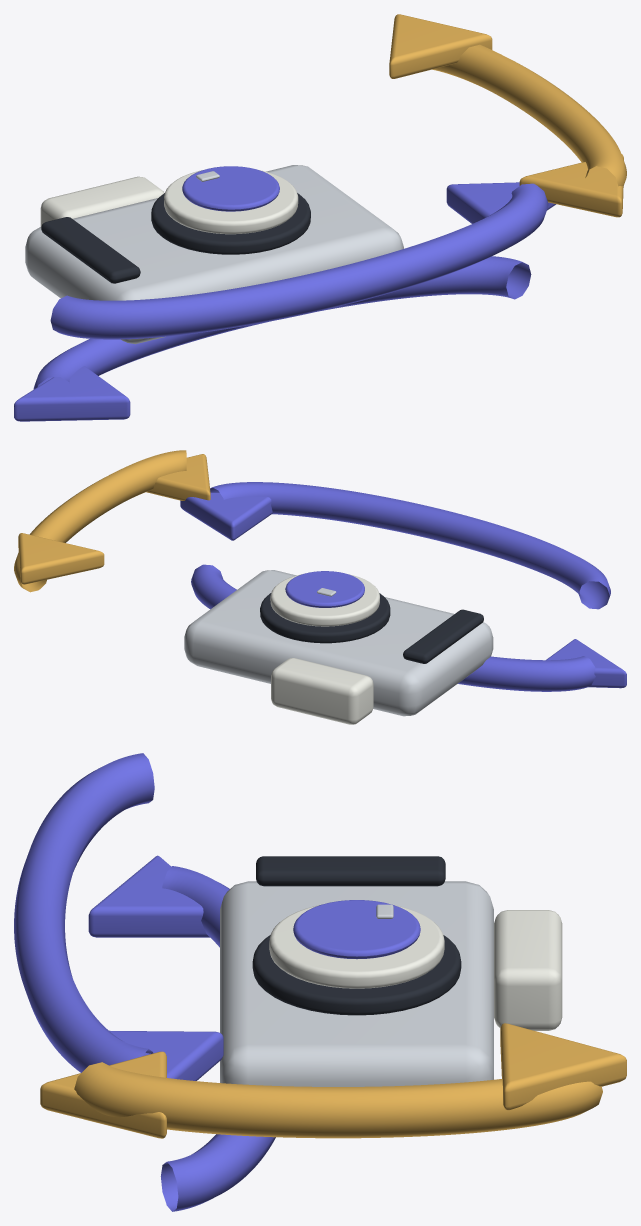
Rendered from camera-mode-icon.glb.
3 views of the same model, one above another, from view 1: azimuth 30°, elevation 25°; view 2: azimuth 150°, elevation 25°; view 3: azimuth 270°, elevation 25° (orthographic). The views are drawn at different scales.
Visible parts, largest first — view 1: Worn silver camera body, Raised round trace.001, Raised round trace.002, Raised round trace, Yaw left arrow, Pitch upper arrow, Silver lens bezel, Dark lens seat, Pitch lower arrow, Blue optical lens, Raised viewfinder, Camera grip (+1 smaller); view 2: Worn silver camera body, Raised round trace.001, Raised round trace.002, Raised viewfinder, Raised round trace, Pitch upper arrow, Yaw right arrow, Dark lens seat, Silver lens bezel, Blue optical lens, Camera grip, Pitch lower arrow (+1 smaller); view 3: Worn silver camera body, Raised round trace.002, Raised round trace.001, Raised viewfinder, Raised round trace, Pitch upper arrow, Dark lens seat, Silver lens bezel, Yaw left arrow, Blue optical lens, Camera grip, Pitch lower arrow (+1 smaller).
Boxes of the visible parts, x1,y1,x2,y2 form: Worn silver camera body: (25,165,403,344); Raised round trace.001: (50,183,548,339); Raised round trace.002: (432,44,626,186); Raised round trace: (33,256,531,389); Yaw left arrow: (14,366,130,421); Pitch upper arrow: (389,14,492,78); Silver lens bezel: (164,170,298,234); Dark lens seat: (151,193,310,254); Pitch lower arrow: (519,154,623,217); Blue optical lens: (182,166,279,211); Raised viewfinder: (40,176,164,226); Camera grip: (41,217,140,283); Worn silver camera body: (184,570,493,716); Raised round trace.001: (210,482,610,609); Raised round trace.002: (14,450,186,592); Raised viewfinder: (271,658,373,724); Raised round trace: (191,564,595,691); Pitch upper arrow: (18,533,104,584); Yaw right arrow: (180,492,272,540); Dark lens seat: (260,593,390,643); Silver lens bezel: (270,574,379,626); Blue optical lens: (285,571,364,607); Camera grip: (403,609,483,663); Pitch lower arrow: (146,454,210,500); Worn silver camera body: (220,881,493,1086); Raised round trace.002: (74,1062,602,1138); Raised round trace.001: (14,753,154,1072); Raised viewfinder: (494,910,562,1030); Raised round trace: (160,866,275,1211); Pitch upper arrow: (500,1023,626,1110); Dark lens seat: (252,935,461,1015); Silver lens bezel: (269,905,444,988); Yaw left arrow: (88,855,209,937); Blue optical lens: (293,900,420,959); Camera grip: (256,856,445,886); Pitch lower arrow: (40,1051,166,1138).
Bounding box in the file's own units: 3.01 × 0.668 × 1.97.
